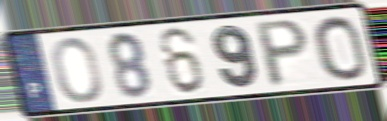6: (158, 25, 207, 98)
8: (107, 30, 153, 101)
9: (209, 21, 261, 92)
O: (310, 14, 370, 82), (50, 35, 105, 105)
P: (254, 16, 311, 90)
